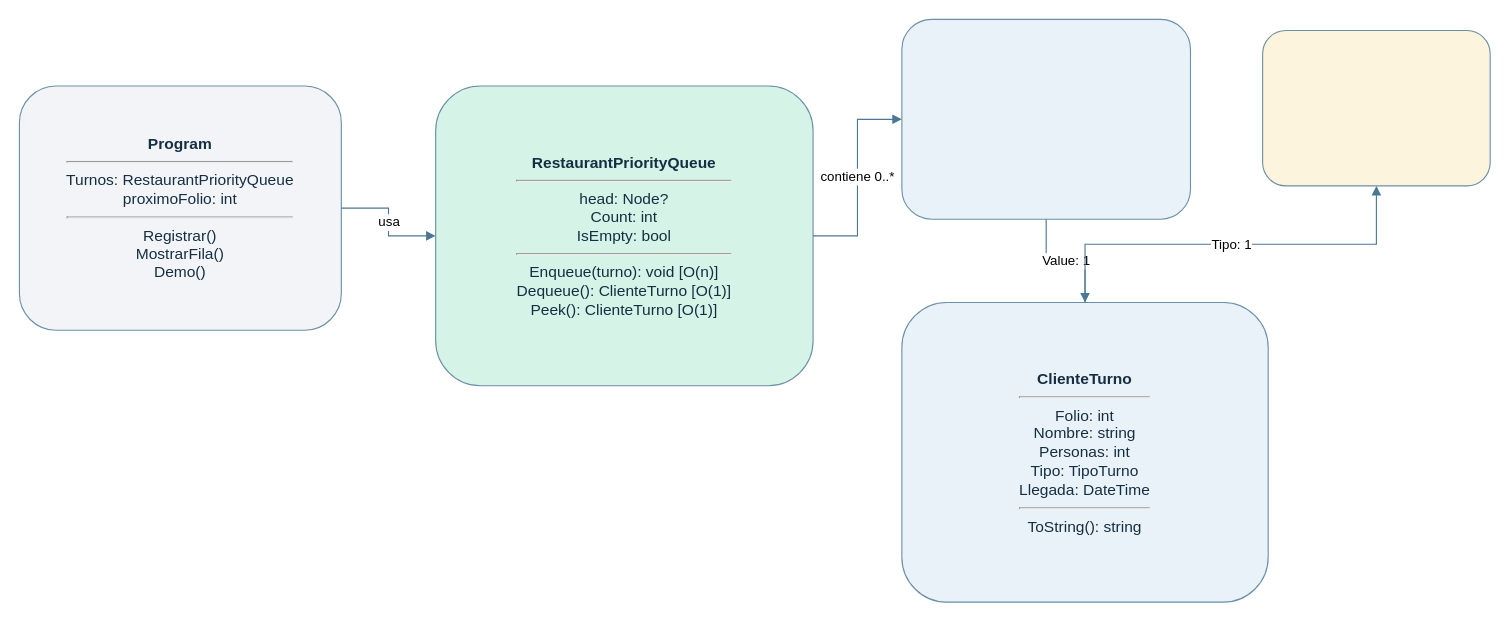
Some shapes in this 1510 by 622 pixel diagram are drawn without their labels. Here are the shapes that lost their labels. From the top down, the centre of each, then its label:
the point at 1045,118: Node (privado) Value: ClienteTurno Next: Node?
the point at 1376,107: «enum» TipoTurno Reserva = 0 SinReserva = 1
